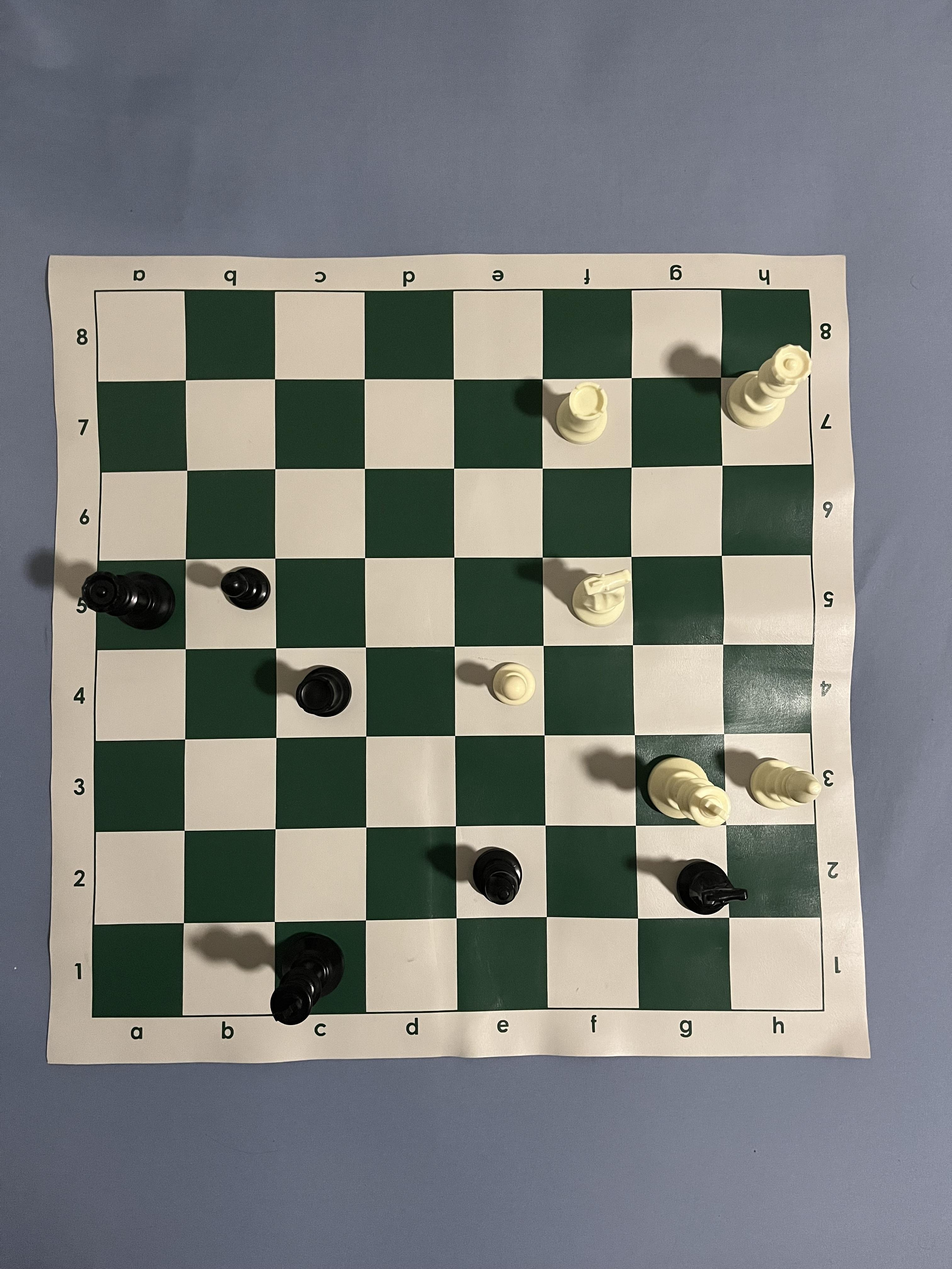black_bishop: (473, 846, 523, 907)
black_king: (269, 932, 345, 1025)
black_knight: (676, 858, 747, 916)
black_pawn: (220, 566, 271, 612)
black_queen: (81, 571, 175, 630)
black_rook: (294, 665, 352, 718)
white_bishop: (749, 757, 823, 810)
white_king: (646, 754, 731, 830)
white_knight: (571, 568, 633, 627)
white_pawn: (493, 661, 536, 706)
white_queen: (725, 343, 812, 431)
white_rook: (556, 382, 609, 446)
